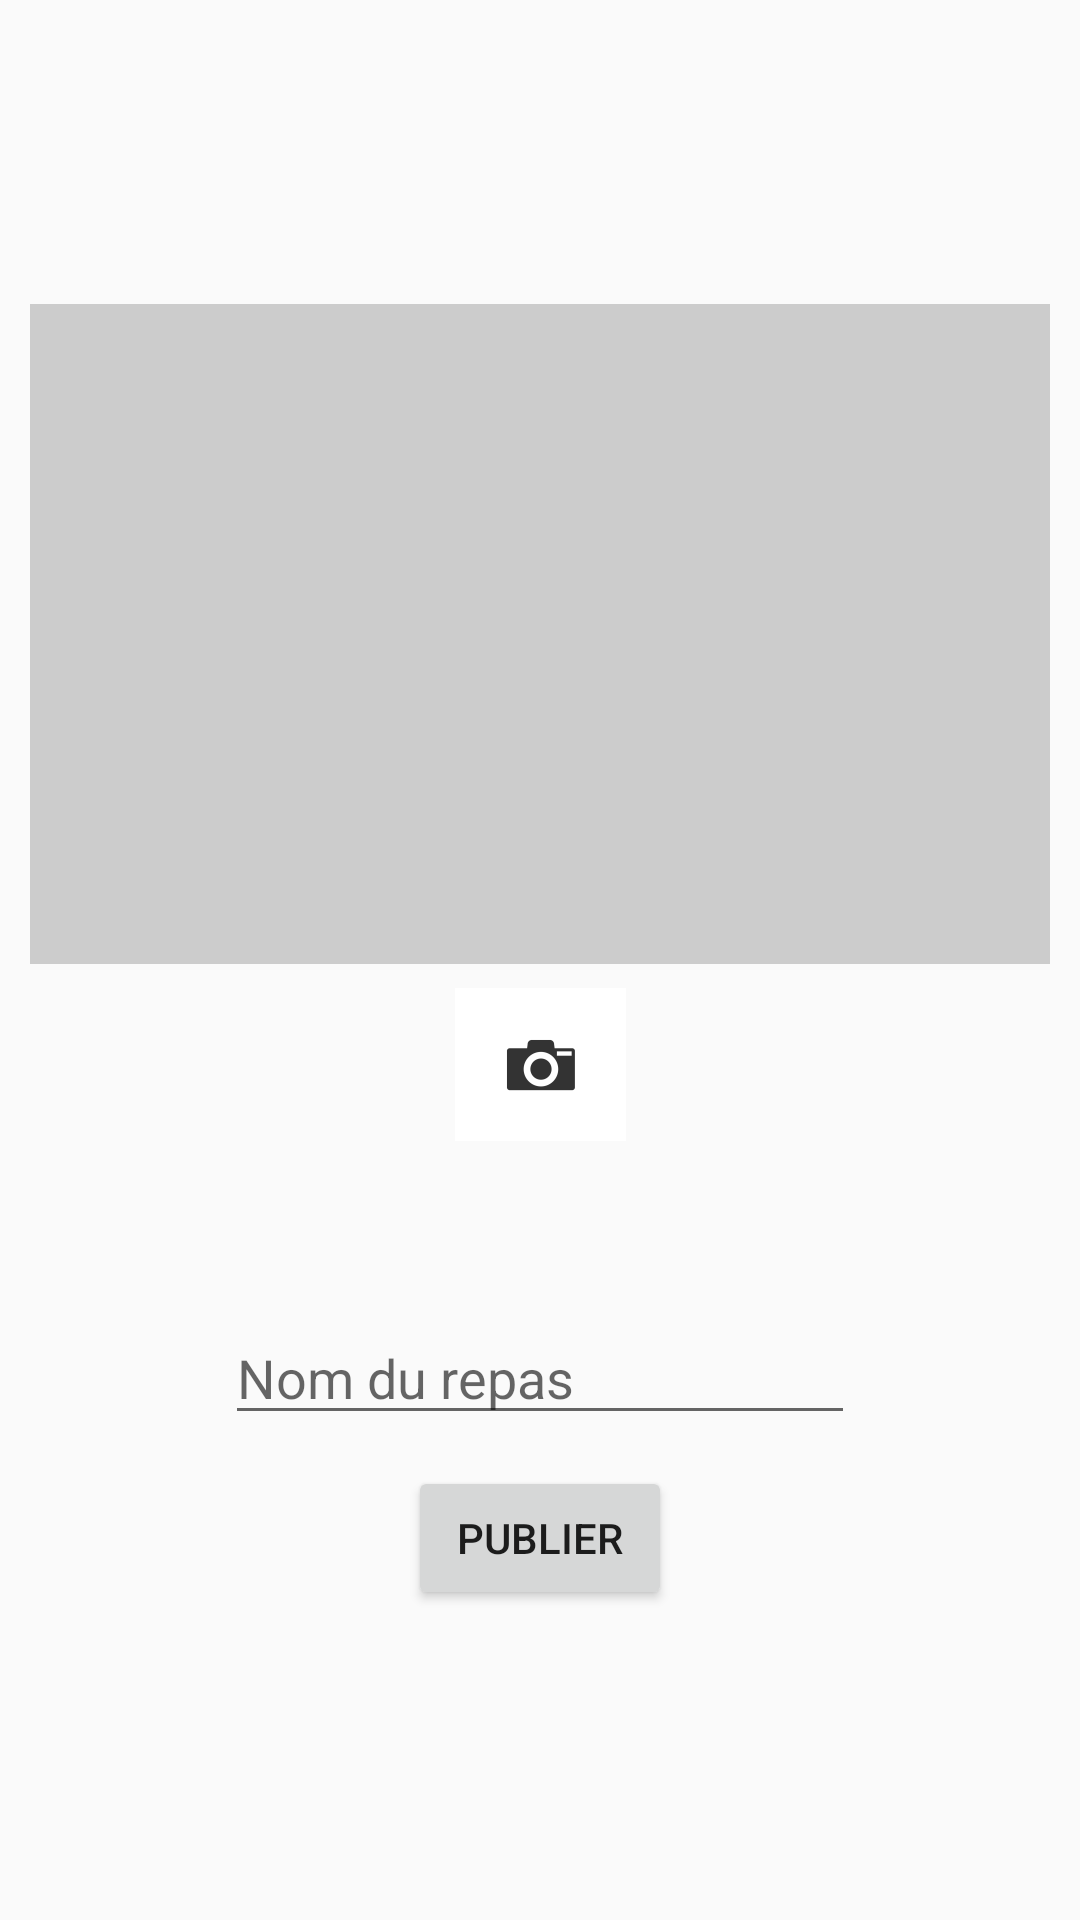

Icons on this 1080x1920 Android screen, each with the point to tap as (x=x, y=y):
photo: (x=541, y=1065)
